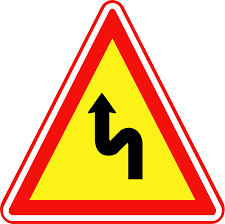Double_bend_left: (3, 1, 223, 224)
